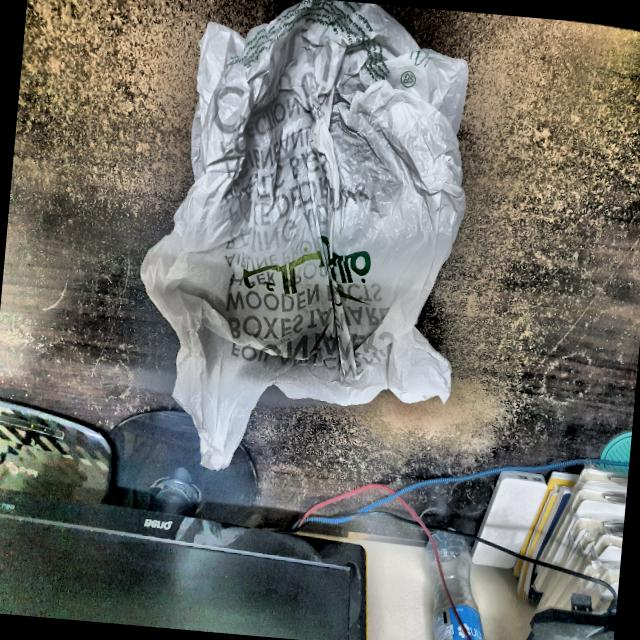plastic bag: (120, 0, 495, 498)
